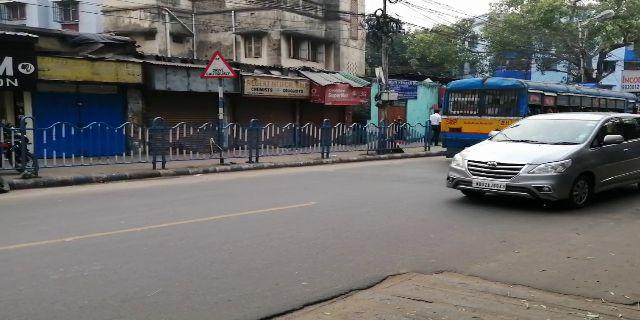Bus: (435, 79, 629, 151)
Car: (449, 115, 635, 200)
